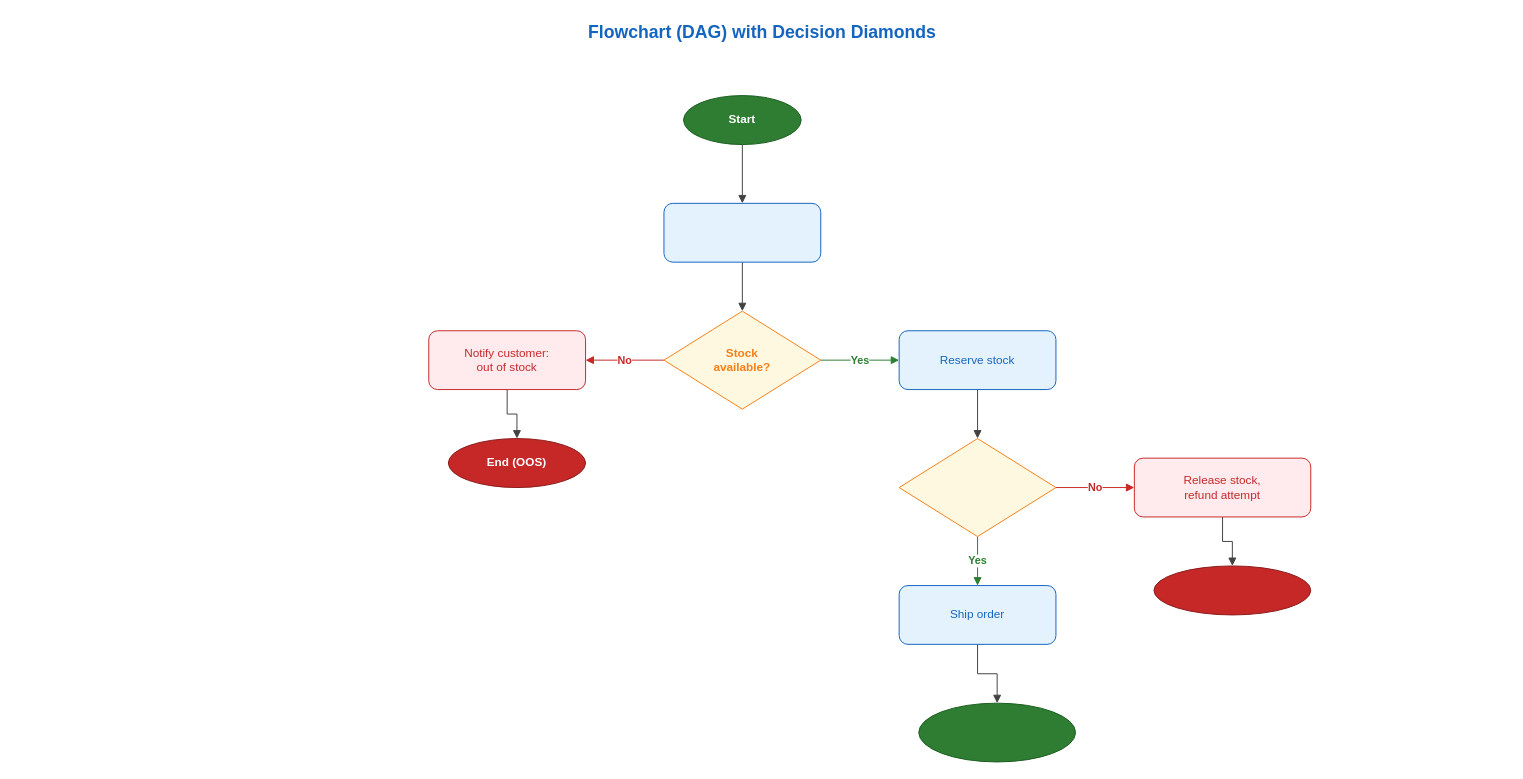
Image size: 1523x779. Some labels were removed from this diagram. The shapes that lost their labels are listed below. From the top down, each one's box as (x1, y1, x2, y2) in pixels, then its label:
(663, 202, 821, 262): Receive order
(898, 438, 1056, 537): Payment captured?
(1153, 565, 1311, 615): End (Pay Failed)
(918, 702, 1076, 762): End (Fulfilled)
